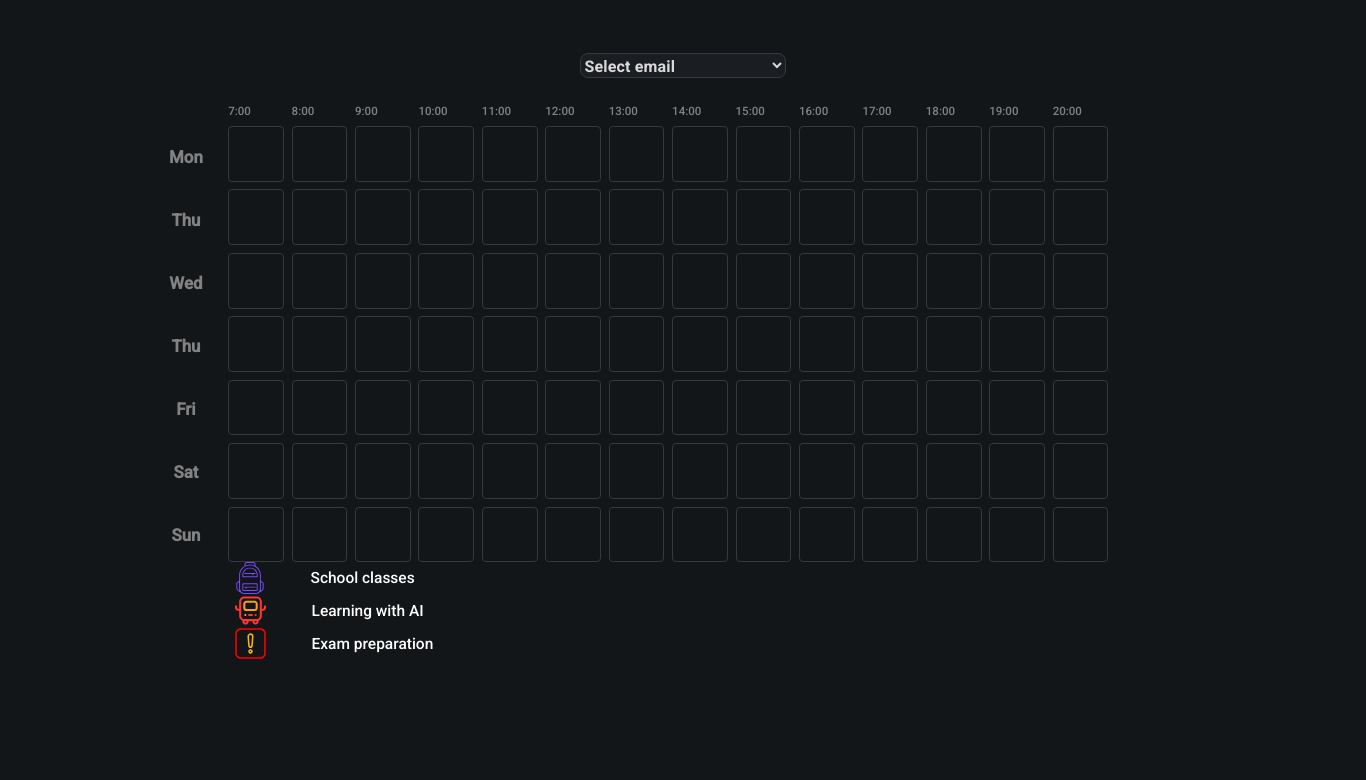
Schedule › closes popup when clicking outside the popup
This screenshot has width=1366, height=780.
Click the element with test id "schedule-rect-0" at (256, 154), box [228,126,284,182]
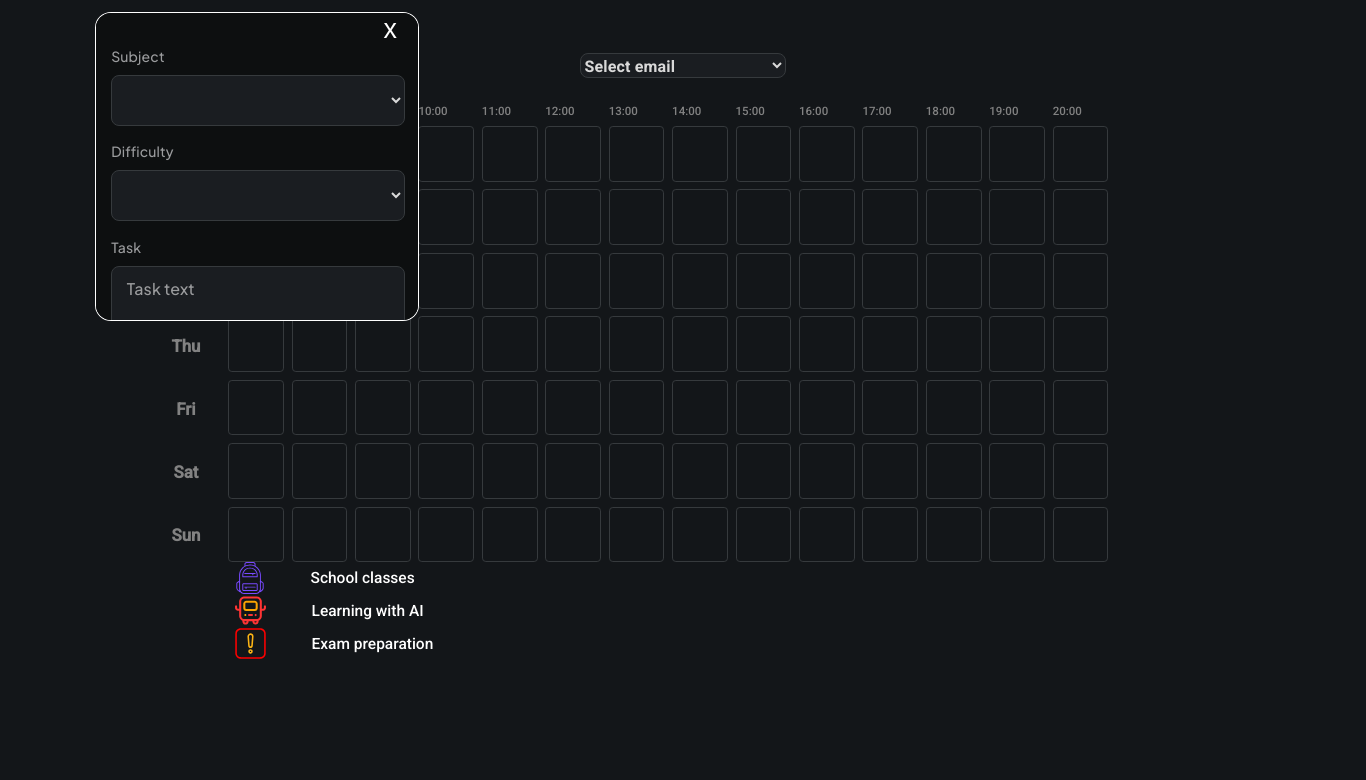
Expected: the dropdown labelled "Subject" is shown, [112,76,404,125]
Click the element that starts with "Mon" at (683, 357), box [0,12,1365,701]
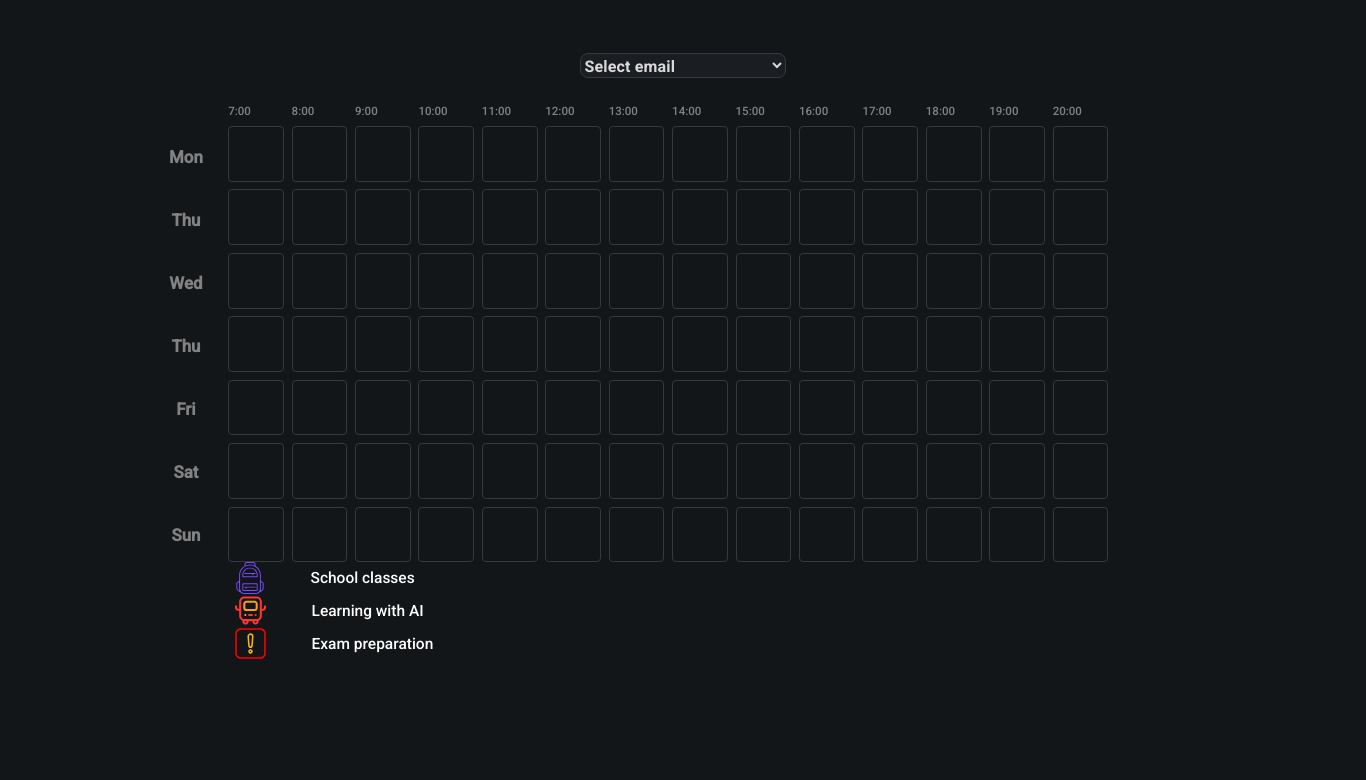
Expected: the label labelled "Subject" is gone
